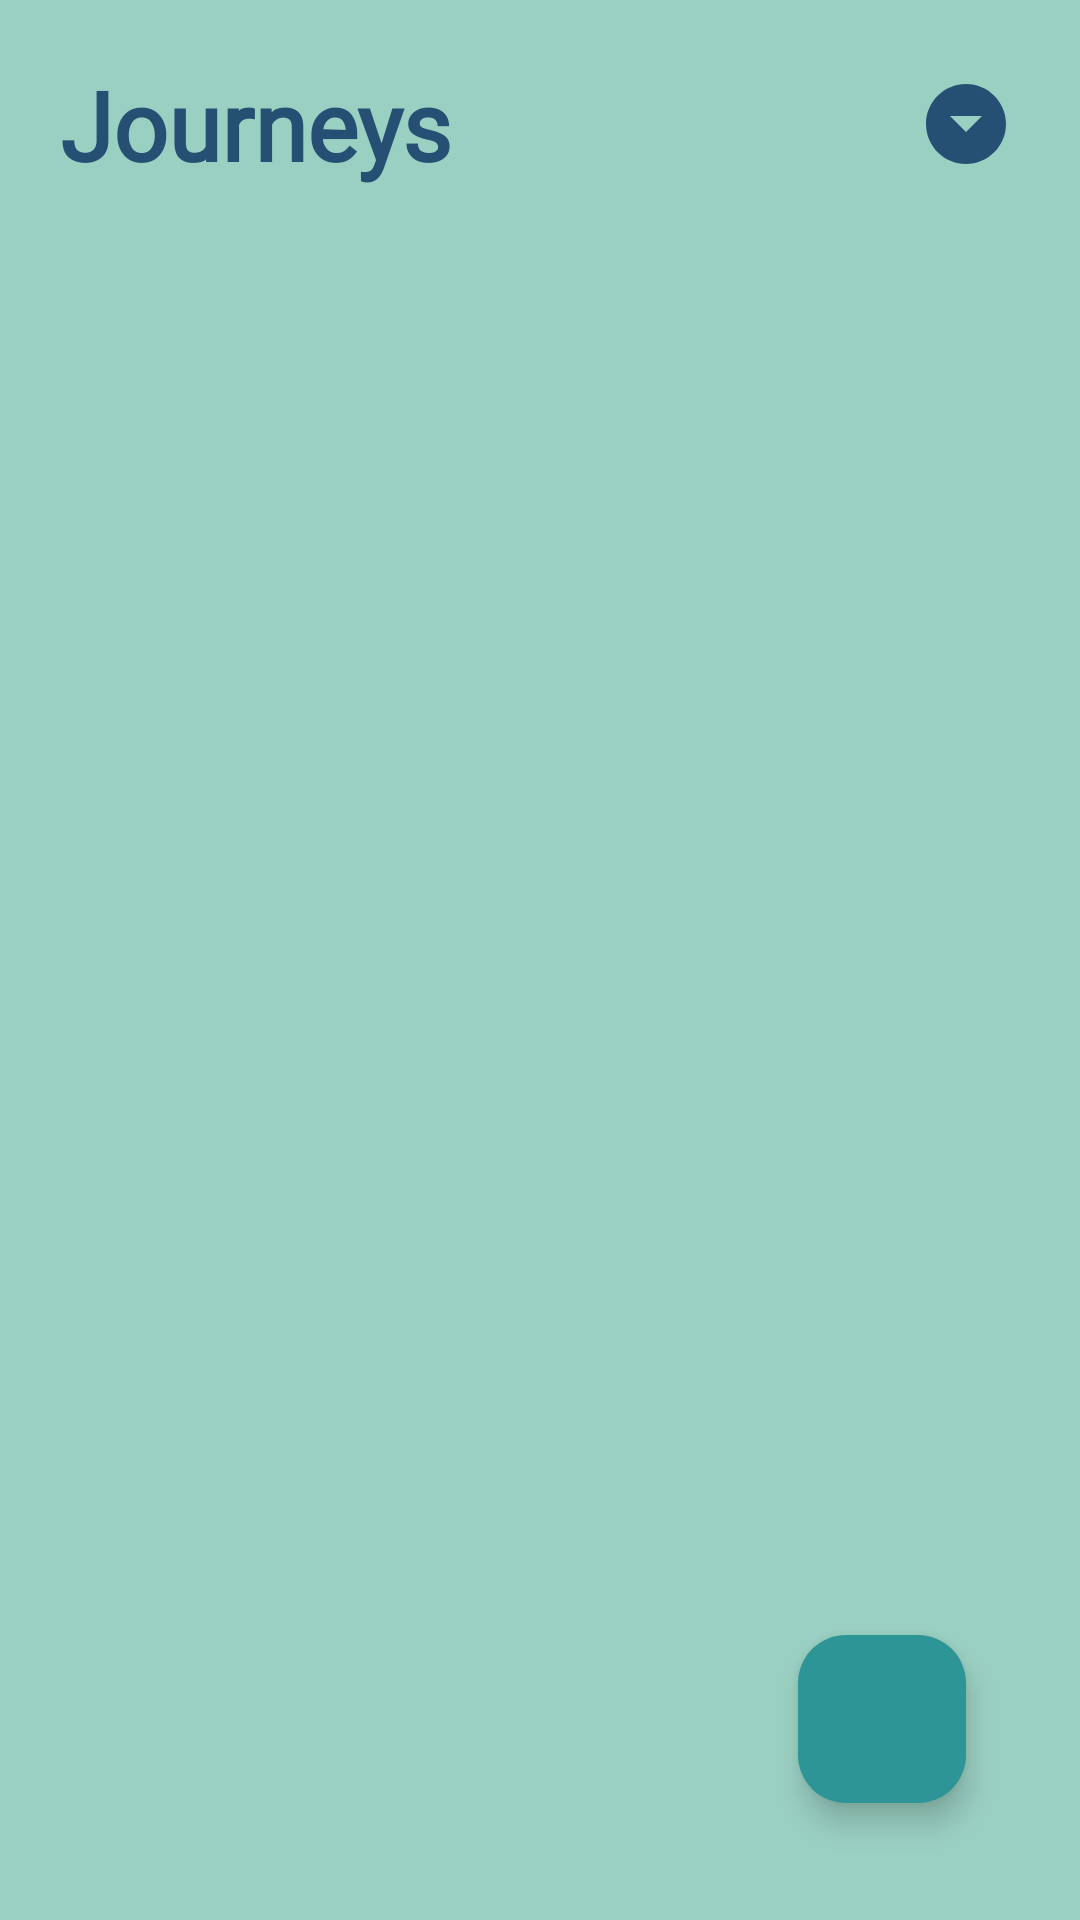

Icons on this 1080px×1920px Android screen, each with its box as (x1, y1, x2, y2):
arrow drop down circle: (926, 84, 1006, 164)
